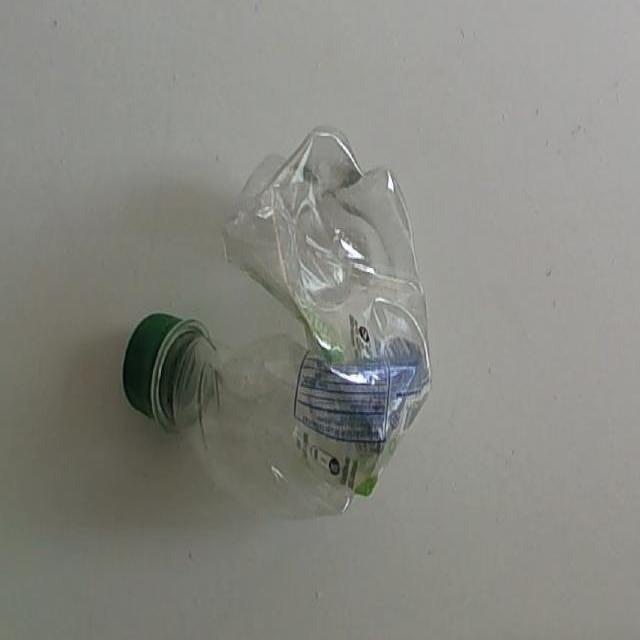defect: (117, 121, 436, 525)
